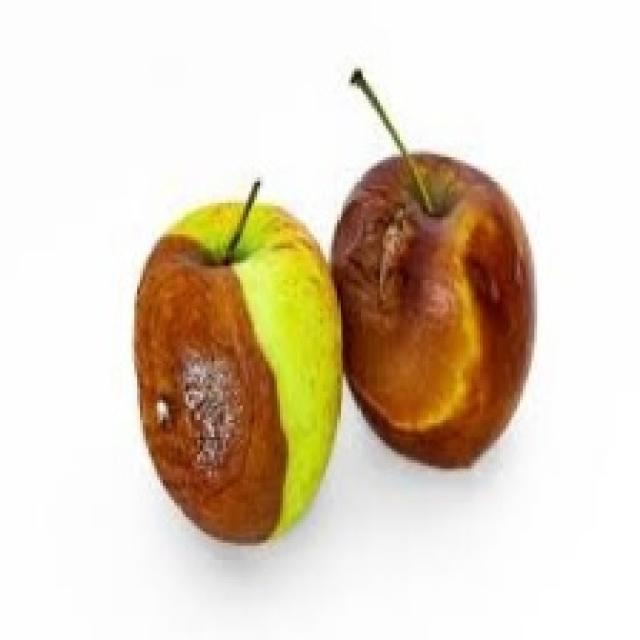rotten_apple: (136, 204, 334, 527), (340, 156, 533, 467)
